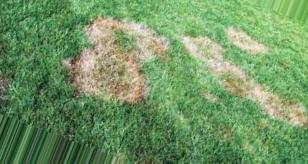patch: (82, 25, 135, 103), (188, 39, 241, 91), (242, 77, 289, 122), (227, 27, 273, 62)
